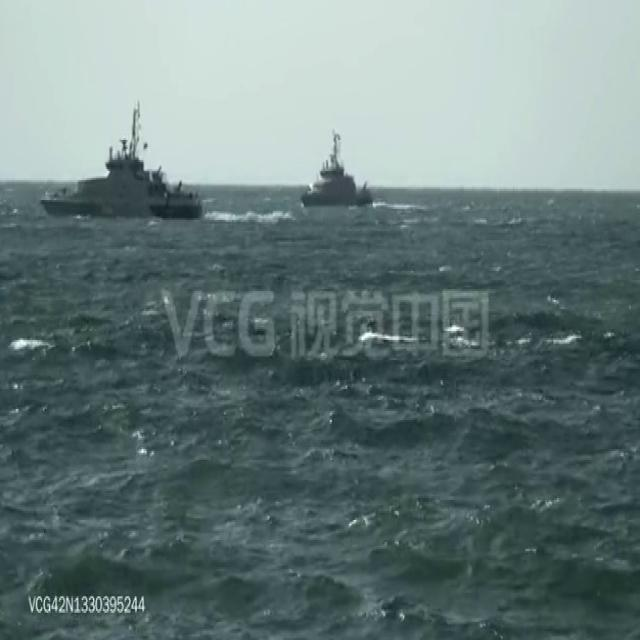houseboat: (42, 105, 203, 227), (298, 125, 369, 206)
